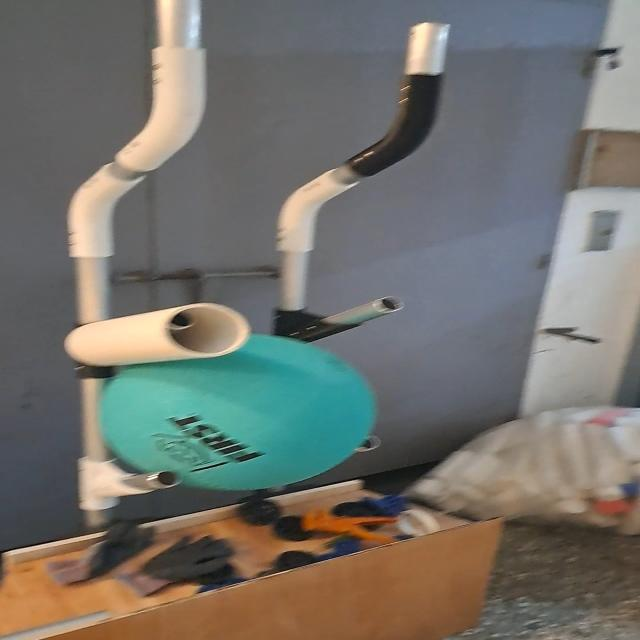ALGAE: (101, 331, 386, 494)
CORAL: (66, 303, 254, 369)
